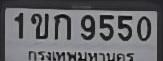0: (136, 15, 150, 40)
1: (14, 12, 22, 38)
5: (117, 14, 132, 40), (99, 14, 113, 40)
9: (80, 14, 94, 39)
A01: (53, 13, 70, 39)
A02: (30, 12, 48, 38)
BKK: (24, 48, 137, 61)
